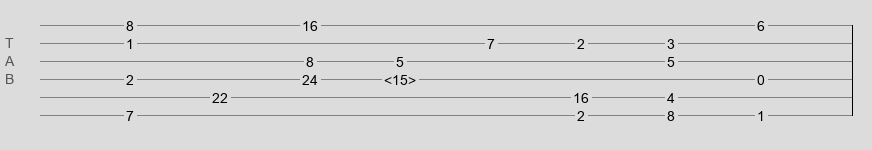0: (757, 72, 765, 82)
1: (126, 36, 134, 46), (757, 108, 765, 118)
16: (302, 18, 318, 28), (573, 90, 589, 100)
2: (126, 72, 134, 82), (577, 108, 585, 118), (577, 36, 585, 46)
22: (212, 90, 228, 100)
24: (302, 72, 318, 82)
3: (667, 36, 675, 46)
4: (667, 90, 675, 100)
5: (396, 54, 404, 64), (667, 54, 675, 64)
6: (757, 18, 765, 28)
7: (126, 108, 134, 118), (487, 36, 495, 46)
8: (126, 18, 134, 28), (306, 54, 314, 64), (667, 108, 675, 118)
harmonic: (384, 72, 416, 82)
